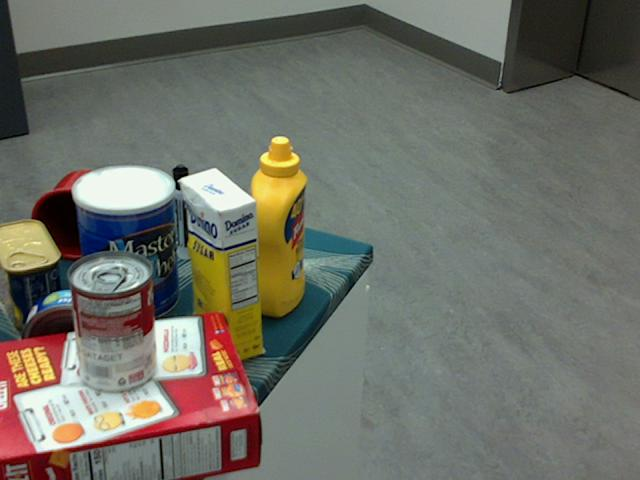cracker_box: (0, 313, 261, 479)
large_marker: (172, 163, 192, 258)
master_chef_can: (70, 165, 178, 325)
mug: (28, 169, 119, 261)
mustard_bottle: (247, 135, 306, 317)
potted_meat_can: (0, 218, 65, 333)
sugar_box: (180, 166, 262, 364)
tomato_soup_can: (66, 251, 155, 393)
tuna_fish_can: (21, 289, 116, 381)
